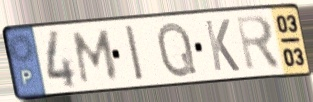4: (44, 29, 80, 91)
I: (123, 23, 147, 84)
K: (202, 18, 242, 74)
M: (72, 28, 120, 86)
Q: (155, 19, 200, 80)
R: (233, 12, 283, 74)
